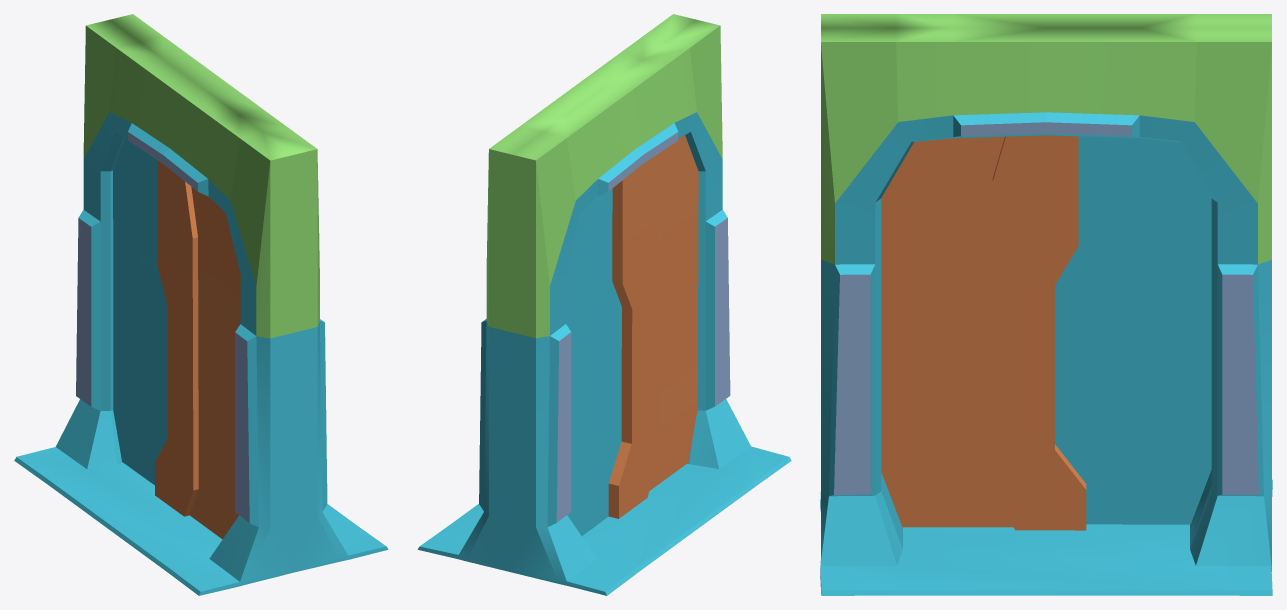
Rendered from Door.fbx.
3 renders of one model, left to right at view 1: azimuth 30°, elevation 25°; view 2: azimuth 150°, elevation 25°; view 3: azimuth 270°, elevation 25°, orthographic. The views are drawn at different scales.
Visible parts, largest first — view 1: Door_Right, Door_Right.001, Door_Right.002; view 2: Door_Right, Door_Right.001, Door_Right.002; view 3: Door_Right, Door_Right.001, Door_Right.002.
Boxes of the visible parts, x1,y1,x2,y2 form: Door_Right: (14, 14, 388, 595); Door_Right.001: (155, 160, 240, 539); Door_Right.002: (113, 137, 167, 485); Door_Right: (417, 14, 791, 595); Door_Right.001: (608, 135, 698, 518); Door_Right.002: (566, 188, 621, 535); Door_Right: (820, 14, 1272, 595); Door_Right.001: (881, 135, 1086, 530); Door_Right.002: (1055, 136, 1211, 524).
Bounding box in the file's own units: 119 × 250 × 201.
